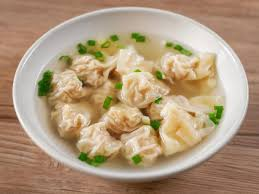Pangsit: (152, 93, 224, 150), (122, 120, 168, 162), (119, 71, 166, 108), (162, 49, 215, 81), (78, 122, 118, 160), (101, 101, 150, 131), (74, 53, 114, 87), (46, 72, 87, 101), (52, 105, 85, 137)
